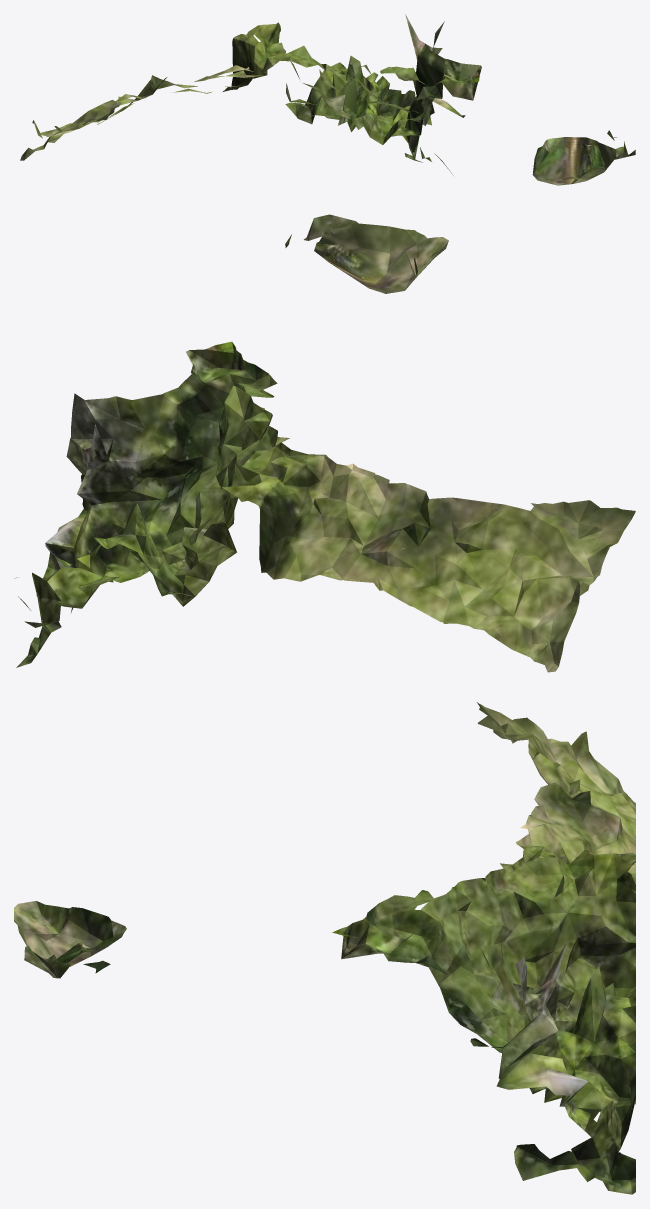
3 views of the same model, one above another, from view 1: azimuth 30°, elevation 25°; view 2: azimuth 150°, elevation 25°; view 3: azimuth 270°, elevation 25° (orthographic). The views are drawn at different scales.
Size of the model in its own units: 26.11 by 10.68 by 26.11.
Materials: 2 (2 with a texture image).
